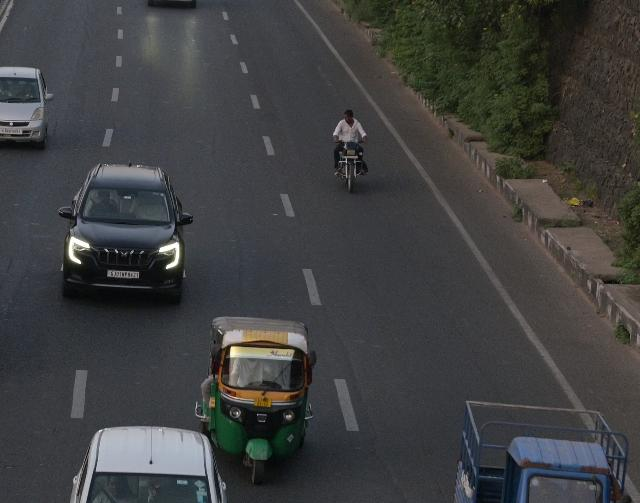Without Helmet: (342, 106, 356, 122)
